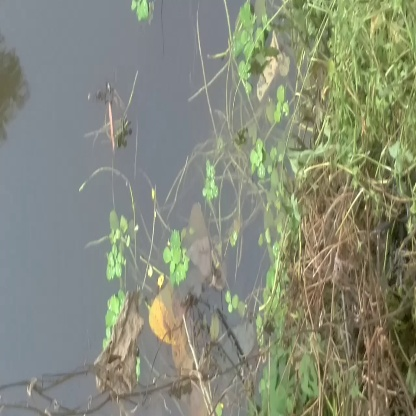leaf: (89, 205, 149, 283)
